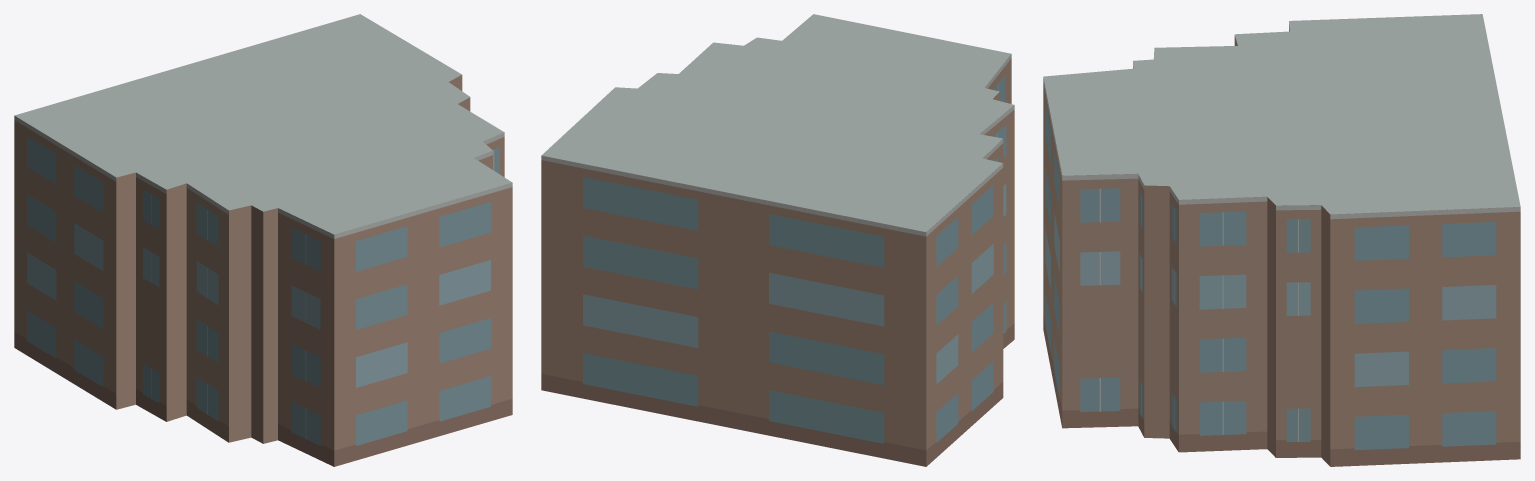
File: survey-upis-33003578.glb
3 views of the same model, side by side, from view 1: azimuth 30°, elevation 25°; view 2: azimuth 150°, elevation 25°; view 3: azimuth 270°, elevation 25° (orthographic). The views are drawn at different scales.
Parts seen in each view (by area): view 1: survey-upis-33003578.tmp; view 2: survey-upis-33003578.tmp; view 3: survey-upis-33003578.tmp.
Part boxes in pixels (x1,y1,x2,y2): survey-upis-33003578.tmp: [14, 14, 512, 466]; survey-upis-33003578.tmp: [541, 14, 1014, 466]; survey-upis-33003578.tmp: [1043, 14, 1520, 466].
Bounding box in the file's own units: 21.81 × 12.8 × 21.95.
